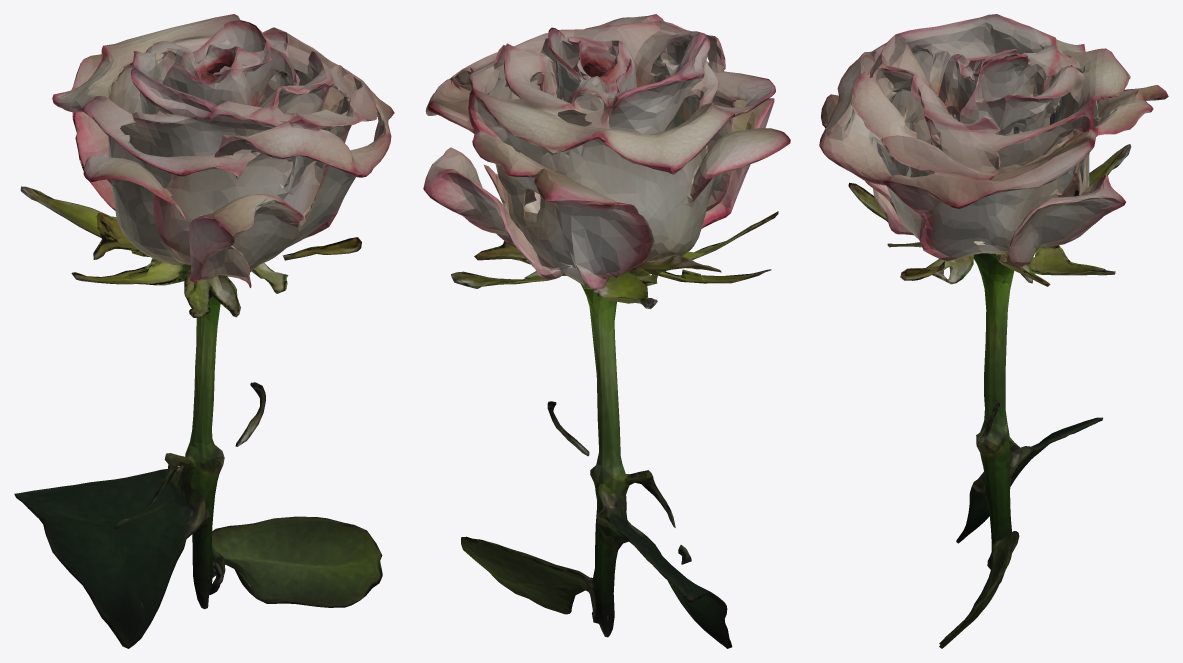
3 views of the same model, side by side, from view 1: azimuth 30°, elevation 25°; view 2: azimuth 150°, elevation 25°; view 3: azimuth 270°, elevation 25° (orthographic). The views are drawn at different scales.
Visible parts, largest first — view 1: world; view 2: world; view 3: world.
Part boxes in pixels (left/top/right/bottom): world: left=14, top=14, right=394, bottom=648; world: left=423, top=14, right=790, bottom=648; world: left=819, top=14, right=1168, bottom=648.
Bounding box in the file's own units: 0.5596 × 0.9868 × 0.5585.
Materials: 1 (1 with a texture image).
